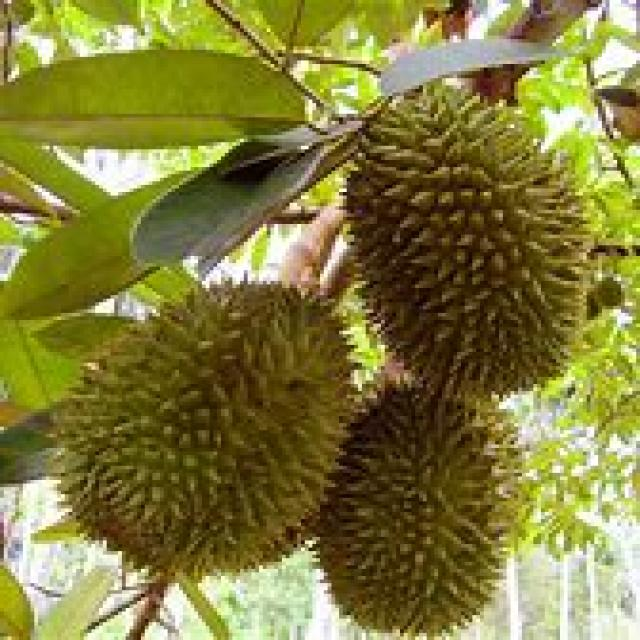mature: (62, 285, 350, 577), (347, 85, 581, 394), (319, 382, 516, 633)
